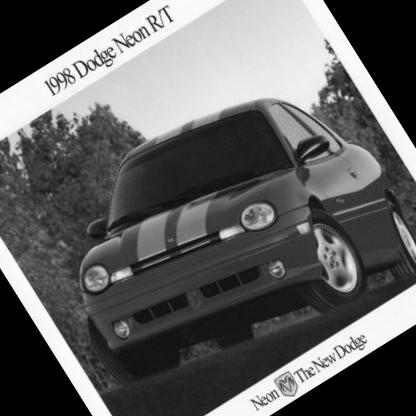car: (1, 2, 416, 416)
